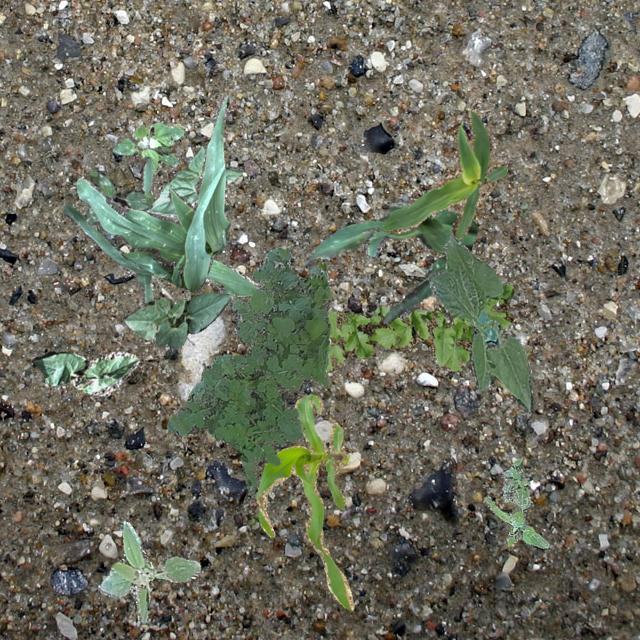crop: (75, 95, 228, 292), (62, 156, 262, 302), (300, 200, 477, 322), (255, 394, 354, 610), (426, 236, 534, 412), (382, 106, 506, 238), (144, 144, 240, 216), (122, 292, 230, 348), (32, 350, 140, 396)
weed: (166, 246, 330, 496), (324, 284, 512, 371), (98, 520, 200, 622), (483, 458, 548, 548), (84, 170, 154, 223), (112, 120, 184, 170)
